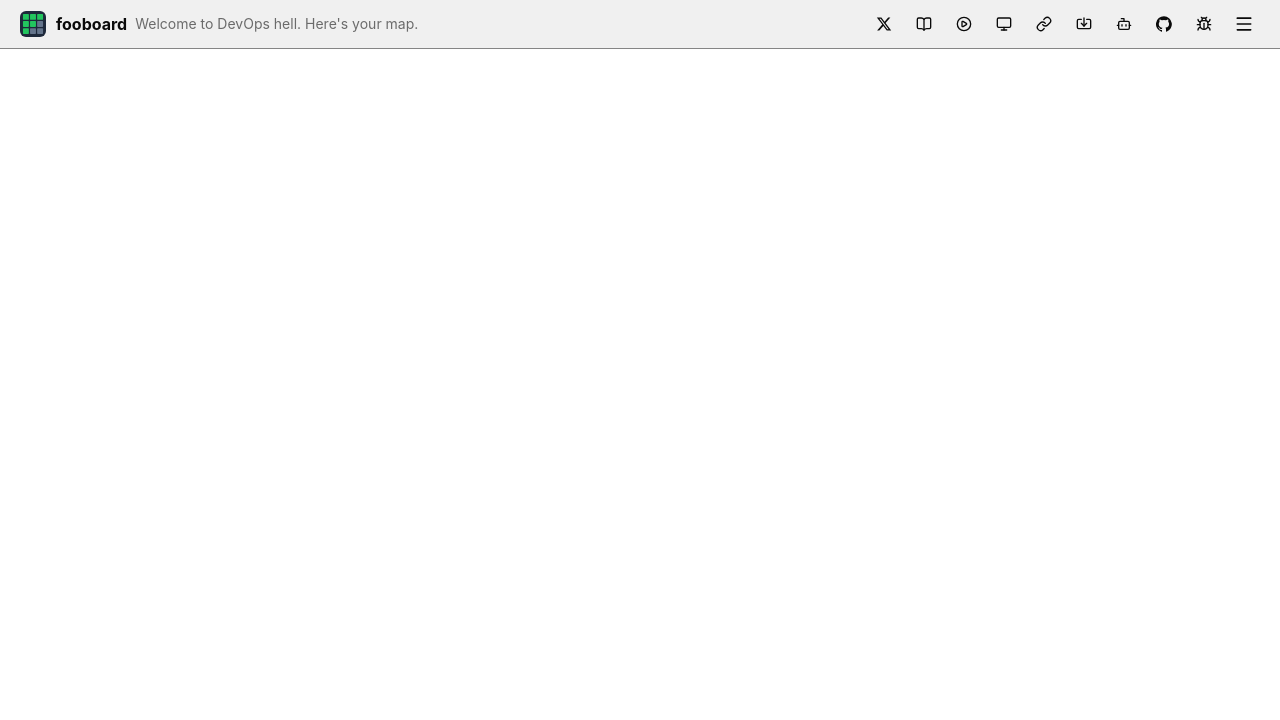
it: Header › opens Share / Export in its dialog
Click the button named "Share / Export". click: [1044, 24]
box: left=1028, top=8, right=1060, bottom=40
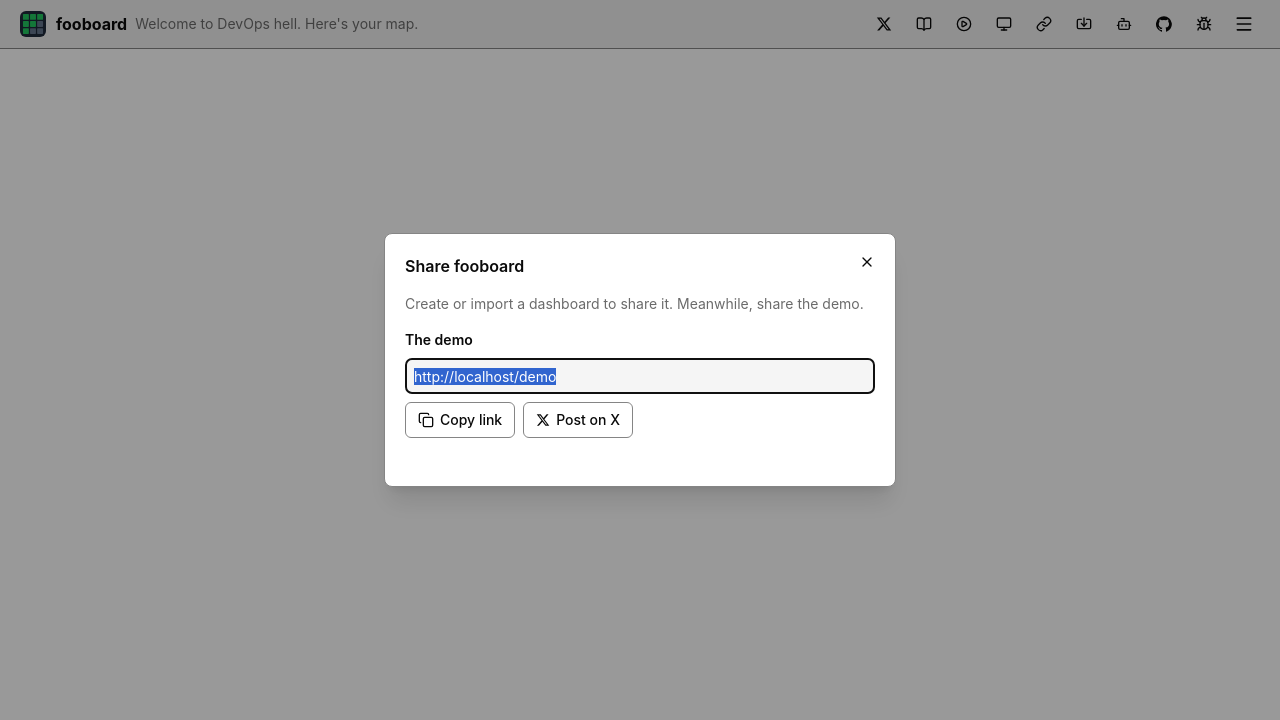
Now the dialog "Share fooboard" is shown, box left=384, top=233, right=896, bottom=487
